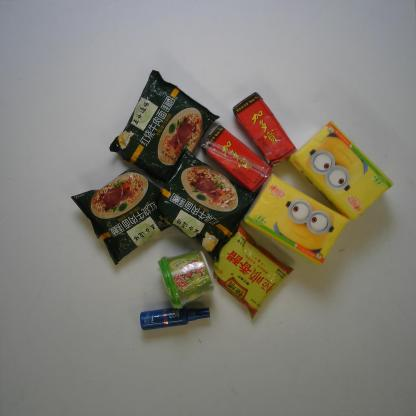Drink: (231, 90, 299, 170), (199, 123, 275, 193)
Instant Drink: (157, 247, 216, 311)
Instant Noodles: (107, 67, 222, 184), (158, 144, 260, 261), (70, 167, 172, 267)
Personal Hygiene: (138, 306, 211, 332)
Seasoner: (212, 224, 296, 322)
Tissue: (288, 119, 396, 222), (241, 172, 351, 266)
